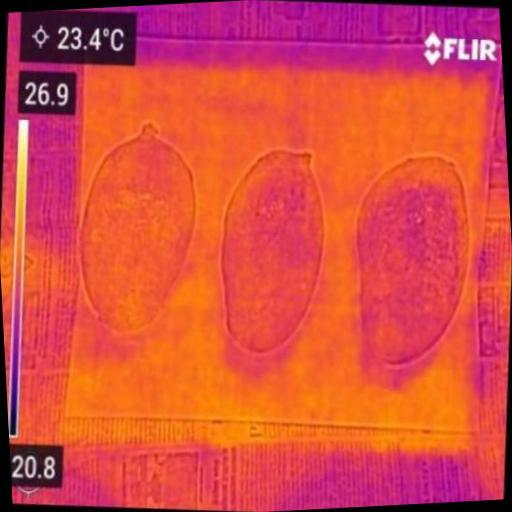alphanso: (81, 124, 195, 330), (358, 156, 468, 363), (221, 150, 323, 353), (0, 13, 7, 130), (0, 362, 8, 434)
